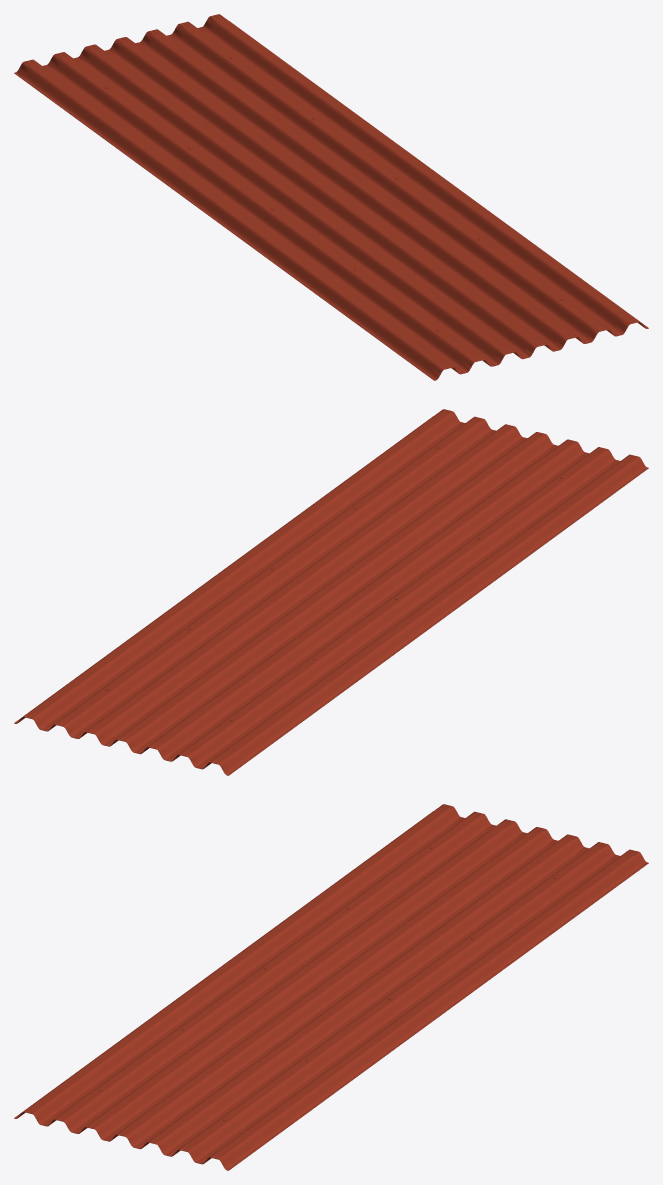
File: lamina_polipropileno.glb
3 renders of one model, top to bottom at view 1: azimuth 30°, elevation 25°; view 2: azimuth 150°, elevation 25°; view 3: azimuth 330°, elevation 25°, orthographic.
Parts seen in each view (by area): view 1: lamina; view 2: lamina; view 3: lamina.
Boxes of the visible parts, left/top/right/bottom form: lamina: left=14, top=14, right=648, bottom=380; lamina: left=14, top=409, right=648, bottom=775; lamina: left=14, top=804, right=648, bottom=1170.
Bounding box in the file's own units: 0.9 × 0.0417 × 3.05.
Materials: 1 (1 with a texture image).
